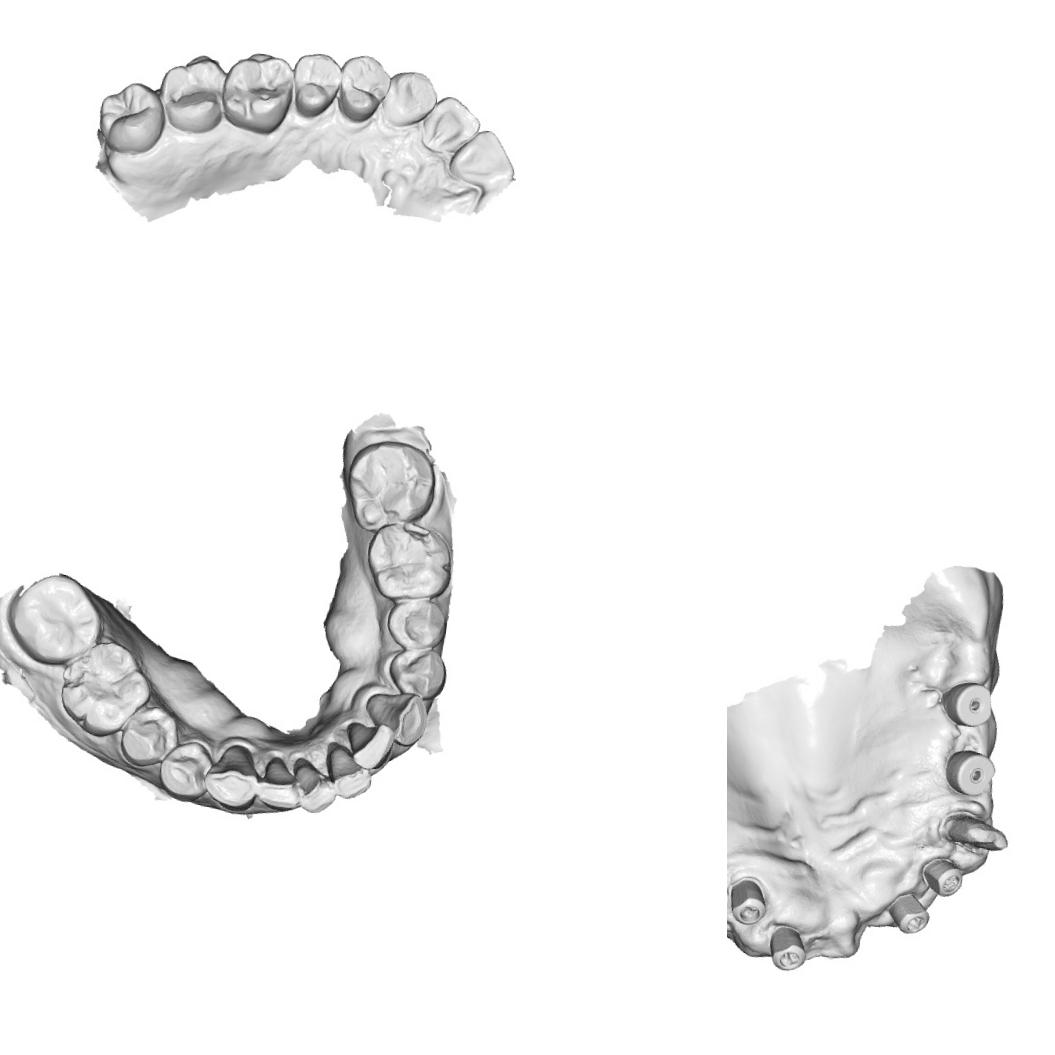canine: (200, 742, 264, 814), (380, 66, 442, 133), (363, 686, 431, 747)
crown: (940, 809, 1012, 856)
implant: (941, 746, 999, 800), (939, 676, 996, 730), (883, 888, 934, 937), (764, 922, 810, 974), (727, 875, 771, 929), (916, 853, 967, 899)
incisor: (445, 124, 520, 192), (418, 92, 484, 160), (287, 756, 342, 818), (320, 742, 376, 802), (339, 716, 396, 774), (256, 755, 306, 816)
molar: (52, 634, 156, 742), (2, 566, 106, 673), (340, 434, 444, 538), (363, 514, 459, 608), (215, 45, 299, 139), (153, 47, 234, 139), (92, 76, 172, 160)
premolar: (334, 51, 395, 126), (286, 48, 345, 122), (117, 702, 179, 771), (384, 640, 450, 702), (383, 594, 449, 654), (155, 737, 212, 802)
